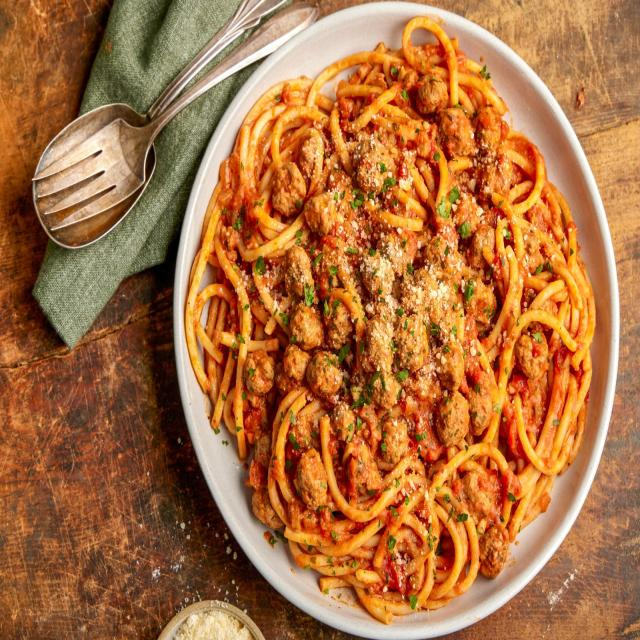pasta: (188, 22, 600, 620)
